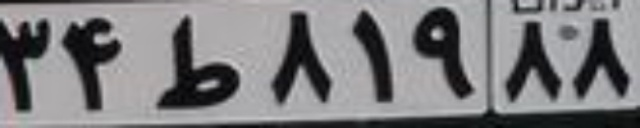1: (350, 10, 397, 102)
3: (0, 14, 50, 111)
4: (59, 16, 126, 110)
8: (271, 10, 335, 106), (570, 17, 633, 99), (501, 20, 562, 103)
9: (410, 6, 475, 99)
taa: (155, 16, 241, 110)
